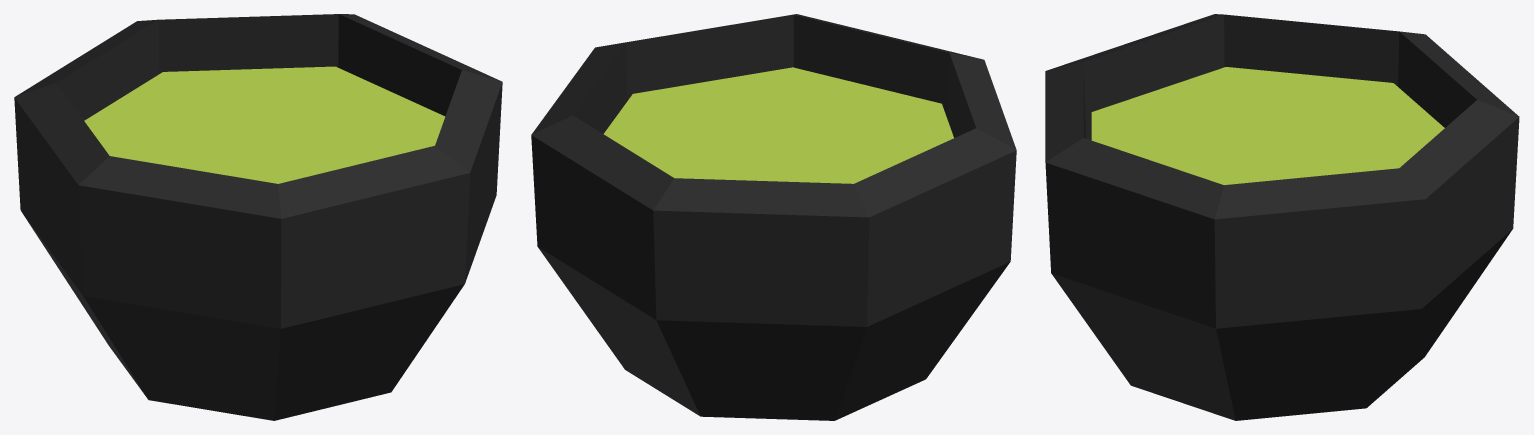
Rendered from cup-small-tea.glb.
3 renders of one model, left to right at view 1: azimuth 30°, elevation 25°; view 2: azimuth 150°, elevation 25°; view 3: azimuth 270°, elevation 25°, orthographic.
Visible parts, largest first — view 1: cup-small-tea; view 2: cup-small-tea; view 3: cup-small-tea.
Part boxes in pixels (left/top/right/bottom): cup-small-tea: left=14, top=14, right=502, bottom=420; cup-small-tea: left=531, top=14, right=1016, bottom=420; cup-small-tea: left=1045, top=14, right=1519, bottom=420.
Size of the model in its own units: 0.1122 by 0.0705 by 0.1094.
1 material, 1 textured.
